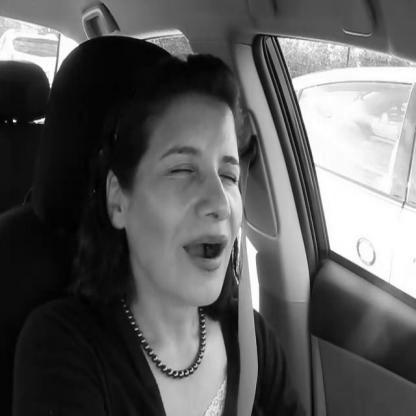seatbelt: (75, 68, 276, 416)
